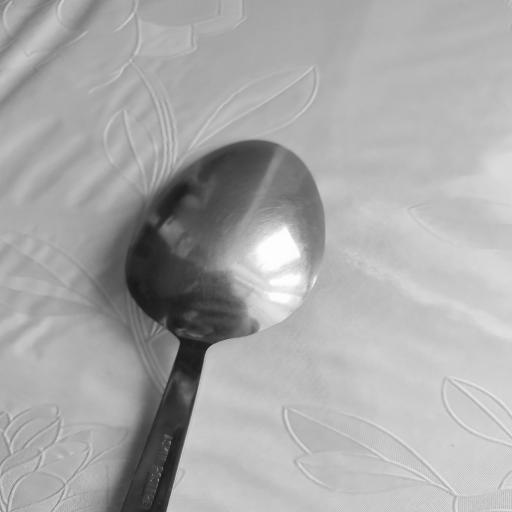spoon: (88, 142, 330, 512)
